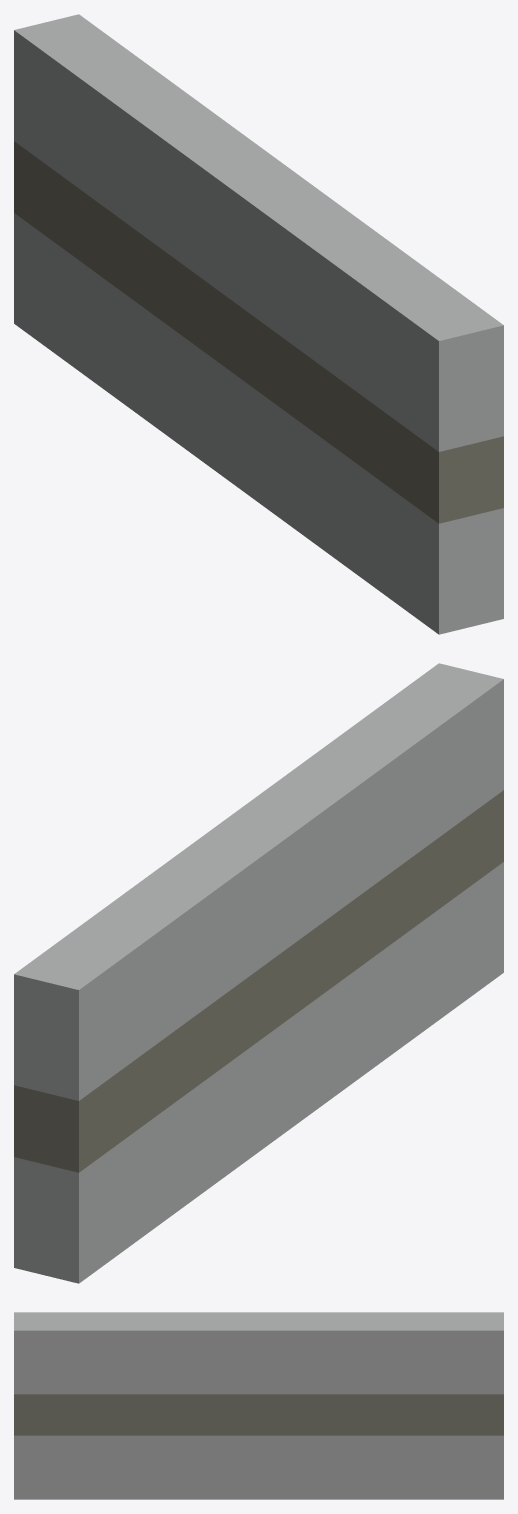
The model's file is wall.FBX.
The picture shows the model from 3 angles, top to bottom: view 1: azimuth 30°, elevation 25°; view 2: azimuth 150°, elevation 25°; view 3: azimuth 270°, elevation 25°; orthographic projection. The views are drawn at different scales.
Parts seen in each view (by area): view 1: wall; view 2: wall; view 3: wall.
Boxes of the visible parts, x1,y1,x2,y2 form: wall: (14, 14, 503, 634); wall: (14, 663, 503, 1283); wall: (14, 1312, 503, 1499).
Bounding box in the file's own units: 0.7002 × 3.02 × 7.93.
